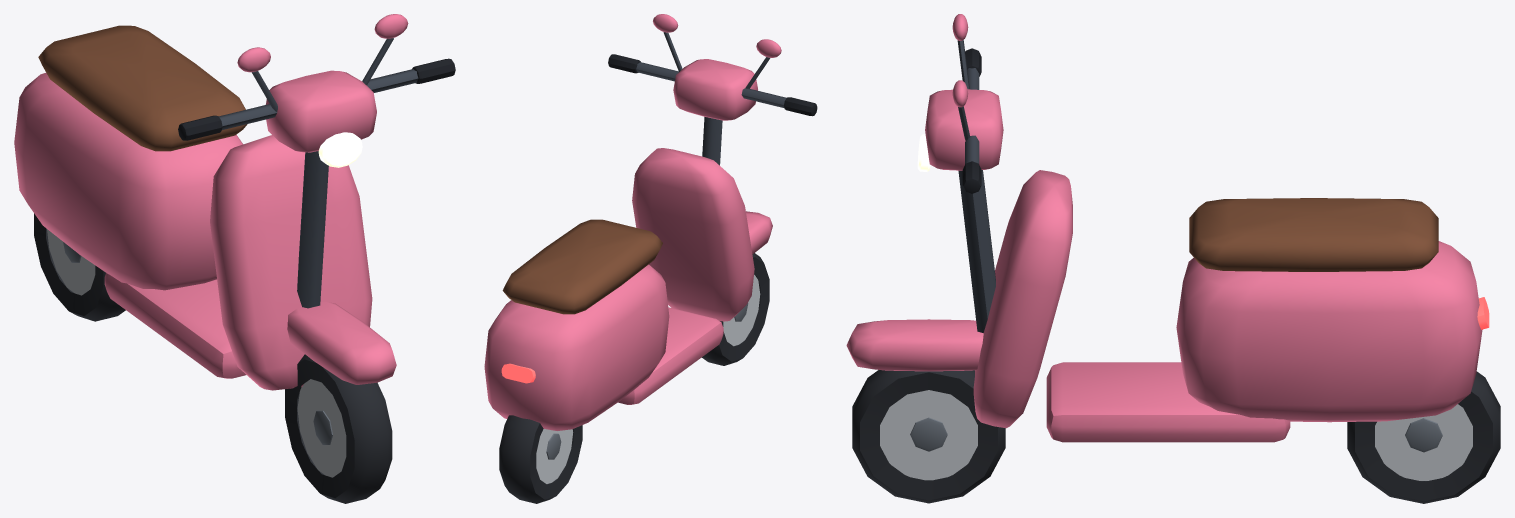
The model's file is scooter_rosa.glb.
The picture shows the model from 3 angles, left to right: view 1: azimuth 30°, elevation 25°; view 2: azimuth 150°, elevation 25°; view 3: azimuth 270°, elevation 25°; orthographic projection. The views are drawn at different scales.
Visible parts, largest first — view 1: scooter_rosa, roda_dianteira, roda_traseira; view 2: scooter_rosa, roda_traseira, roda_dianteira; view 3: scooter_rosa, roda_dianteira, roda_traseira.
Boxes of the visible parts, x1,y1,x2,y2 form: scooter_rosa: (14, 14, 455, 390); roda_dianteira: (285, 354, 392, 503); roda_traseira: (34, 213, 125, 321); scooter_rosa: (484, 14, 817, 430); roda_traseira: (499, 415, 582, 503); roda_dianteira: (702, 253, 769, 365); scooter_rosa: (846, 14, 1489, 442); roda_dianteira: (852, 370, 1005, 503); roda_traseira: (1347, 371, 1500, 503).
Size of the model in its own units: 0.79 by 1.26 by 1.66.
Materials: 3 (1 with a texture image).
